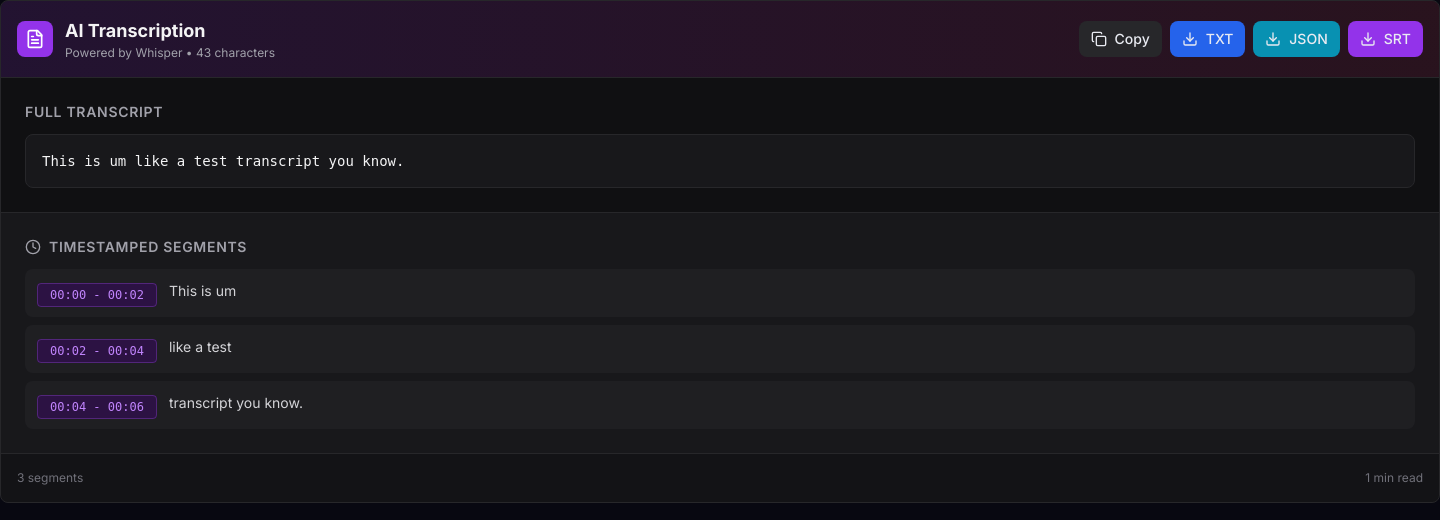
Test: EnhancedTranscriptionViewer › Copy Functionality › should show "Copied!" feedback after copying
Click the button "Copy" at (1120, 39), box [1079,21,1162,57]
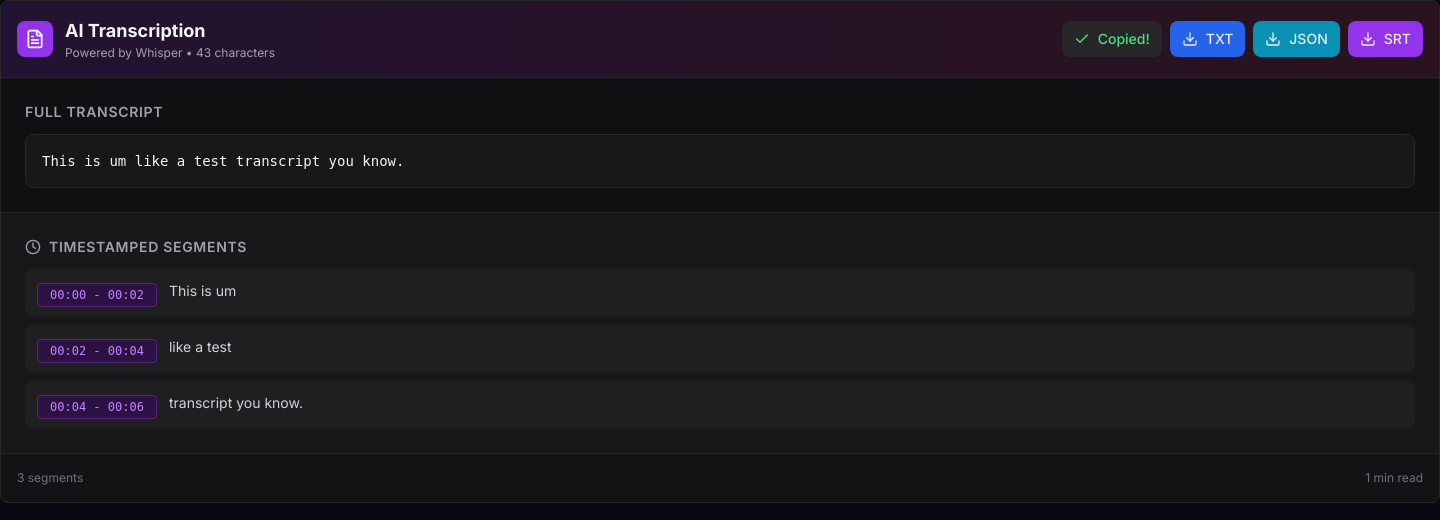
Result: the text "Copied!" is shown at [1098,29,1150,49]
